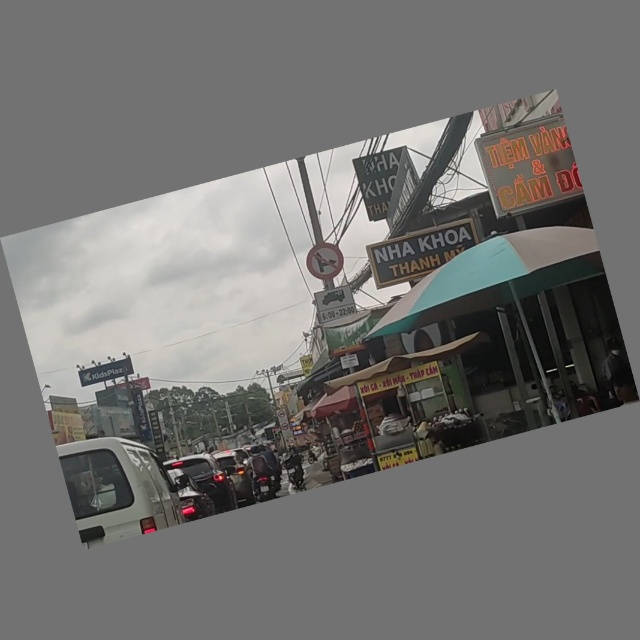P.139: (302, 240, 347, 284)
S.505a*Xe tai: (313, 285, 357, 325)
